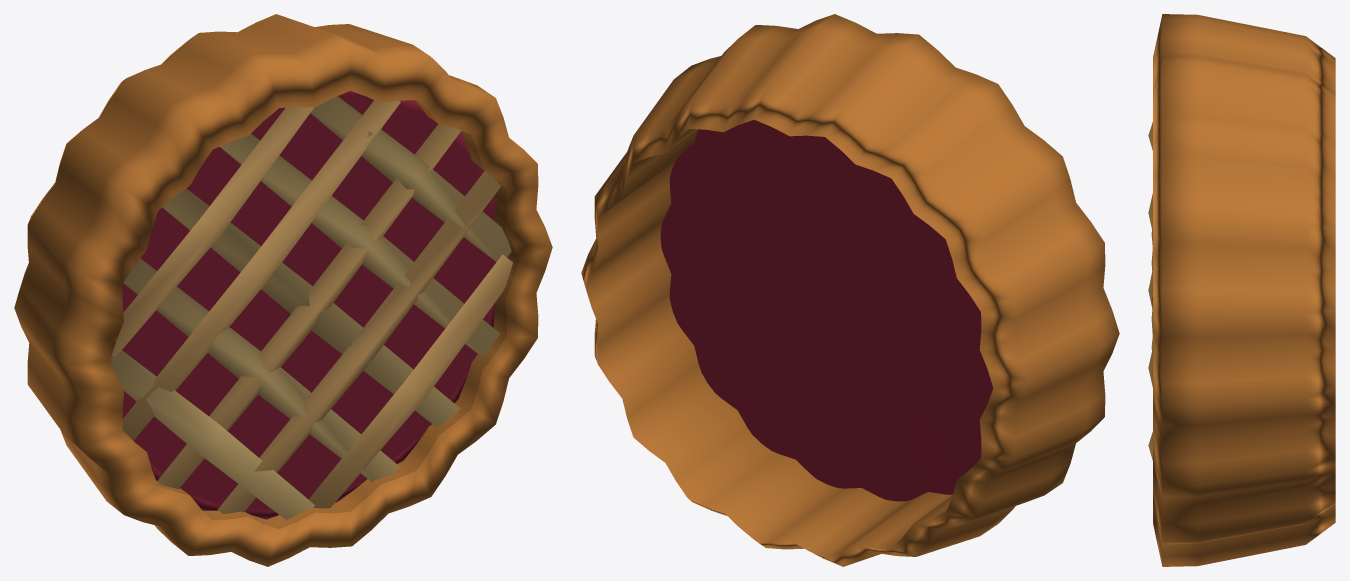
Rendered from snack_pie.glb.
3 views of the same model, side by side, from view 1: azimuth 30°, elevation 25°; view 2: azimuth 150°, elevation 25°; view 3: azimuth 270°, elevation 25° (orthographic).
Visible parts, largest first — view 1: Crimped pie crust; view 2: Crimped pie crust; view 3: Crimped pie crust.
Boxes of the visible parts, x1,y1,x2,y2 form: Crimped pie crust: (14,14,552,566); Crimped pie crust: (581,14,1119,566); Crimped pie crust: (1148,14,1335,566).
Size of the model in its own units: 2.05 by 2.02 by 0.693.
